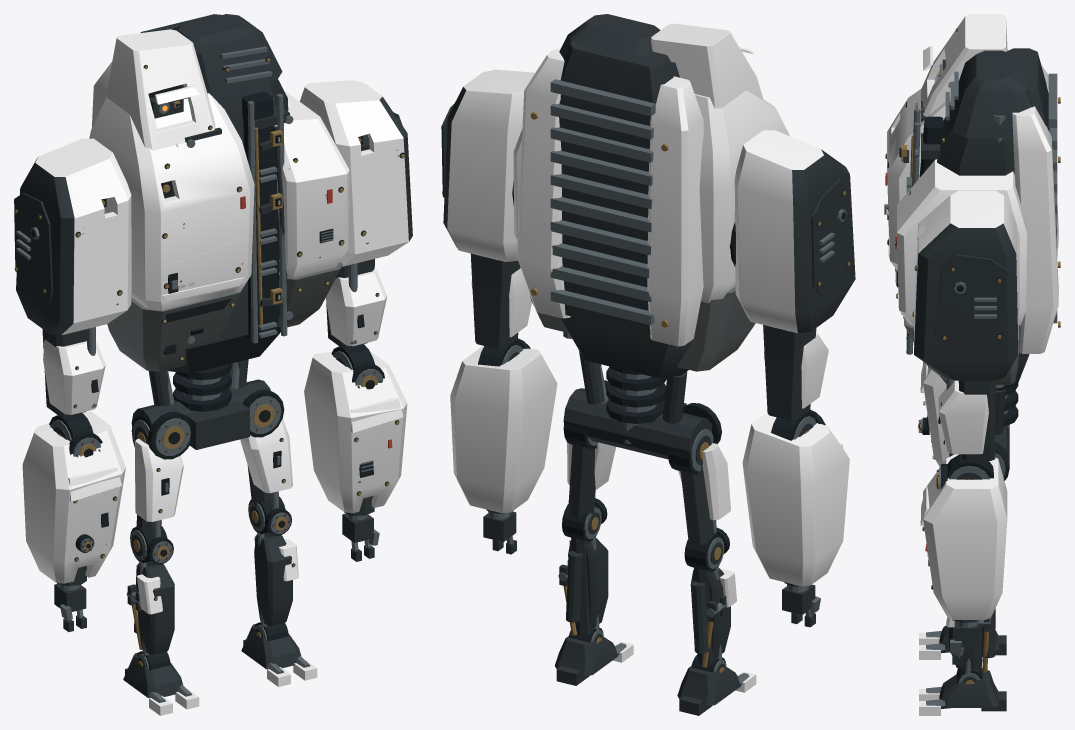
File: mechanical-citizens-tower-heavy-v1.glb
3 renders of one model, left to right at view 1: azimuth 30°, elevation 25°; view 2: azimuth 150°, elevation 25°; view 3: azimuth 270°, elevation 25°, orthographic. The views are drawn at different scales.
Visible parts, largest first — view 1: PLATE_chest_main, PLATE_shoulder_shell.R, CORE_chest, PLATE_forearm_gauntlet.R, PLATE_forearm_gauntlet.L, PLATE_shoulder_shell.L, PLATE_chest_return, PLATE_sensor_hood, CORE_pelvis, PLATE_chest_chin, PLATE_top_engine_cap, PLATE_upper_arm_cuff.R (+18 smaller); view 2: CORE_chest, PLATE_shoulder_shell.R, PLATE_forearm_gauntlet.R, PLATE_forearm_gauntlet.L, PLATE_back_cassette.R, PLATE_shoulder_shell.L, CORE_pelvis, PLATE_back_cassette.L, PLATE_chest_main, PLATE_sensor_hood, CORE_upper_arm.R, CORE_upper_arm.L (+19 smaller); view 3: PLATE_shoulder_shell.L, PLATE_forearm_gauntlet.L, PLATE_back_cassette.L, CORE_chest, PLATE_chest_return, PLATE_top_engine_cap, PLATE_sensor_hood, PLATE_chest_main, PLATE_upper_arm_cuff.L, CORE_foot.L, PLATE_forearm_gauntlet.R, CORE_upper_arm.L (+7 smaller).
Boxes of the visible parts, <box> form: PLATE_chest_main: <box>89,93,254,310</box>; PLATE_shoulder_shell.R: <box>14,138,131,335</box>; CORE_chest: <box>140,14,293,373</box>; PLATE_forearm_gauntlet.R: <box>22,411,125,583</box>; PLATE_forearm_gauntlet.L: <box>304,351,407,513</box>; PLATE_shoulder_shell.L: <box>300,80,412,266</box>; PLATE_chest_return: <box>274,91,349,277</box>; PLATE_sensor_hood: <box>106,29,215,150</box>; CORE_pelvis: <box>131,359,270,449</box>; PLATE_chest_chin: <box>107,284,245,371</box>; PLATE_top_engine_cap: <box>172,14,282,95</box>; PLATE_upper_arm_cuff.R: <box>43,339,105,414</box>; CORE_chest: <box>550,42,689,377</box>; PLATE_shoulder_shell.R: <box>734,130,855,333</box>; PLATE_forearm_gauntlet.R: <box>742,412,849,586</box>; PLATE_forearm_gauntlet.L: <box>450,346,557,513</box>; PLATE_back_cassette.R: <box>647,76,703,346</box>; PLATE_shoulder_shell.L: <box>441,69,535,261</box>; CORE_pelvis: <box>563,351,711,460</box>; PLATE_back_cassette.L: <box>516,48,570,318</box>; PLATE_chest_main: <box>695,90,789,302</box>; PLATE_sensor_hood: <box>651,23,763,108</box>; CORE_upper_arm.R: <box>729,222,816,420</box>; CORE_upper_arm.L: <box>470,181,520,349</box>; PLATE_shoulder_shell.L: <box>912,190,1018,380</box>; PLATE_forearm_gauntlet.L: <box>920,454,1007,619</box>; PLATE_back_cassette.L: <box>1012,106,1060,353</box>; CORE_chest: <box>898,48,1057,390</box>; PLATE_chest_return: <box>894,159,1026,325</box>; PLATE_top_engine_cap: <box>945,50,1031,137</box>; PLATE_sensor_hood: <box>921,14,1007,116</box>; PLATE_chest_main: <box>884,77,950,270</box>; PLATE_upper_arm_cuff.L: <box>938,380,988,454</box>; CORE_foot.L: <box>919,668,1006,715</box>; PLATE_forearm_gauntlet.R: <box>918,361,949,466</box>; CORE_upper_arm.L: <box>946,377,995,460</box>.
Size of the model in its own units: 2.93 by 4.92 by 1.25.
